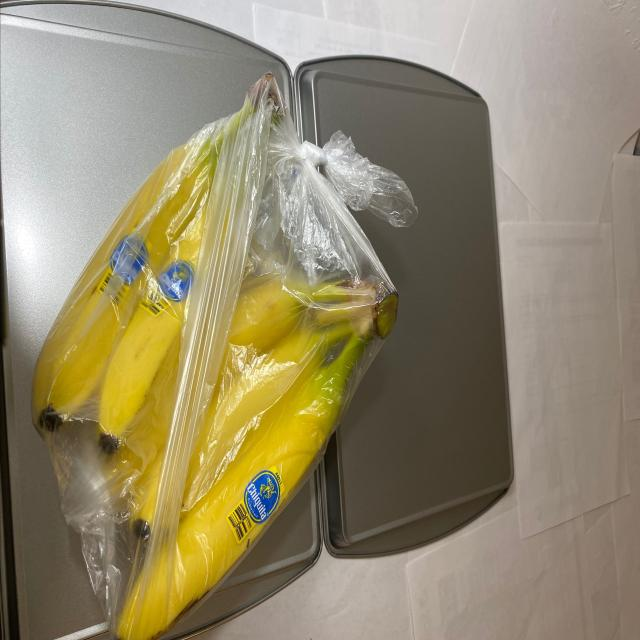banana: (33, 71, 404, 631)
